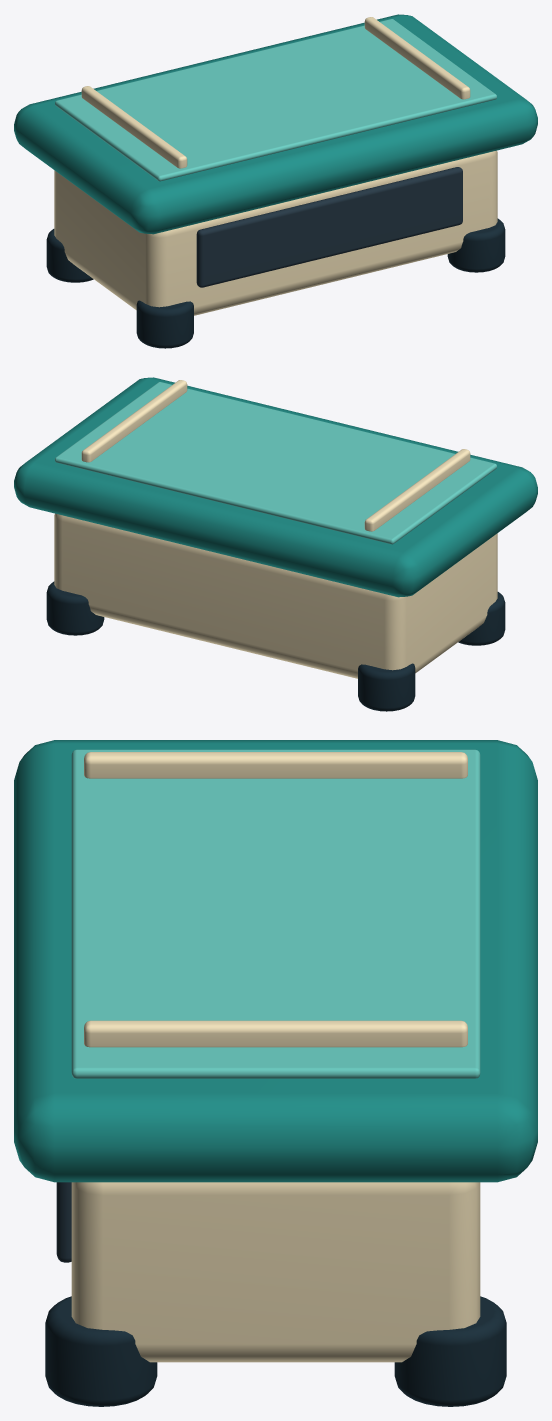
Rendered from delivery.glb.
3 renders of one model, top to bottom at view 1: azimuth 30°, elevation 25°; view 2: azimuth 150°, elevation 25°; view 3: azimuth 270°, elevation 25°, orthographic. The views are drawn at different scales.
Visible parts, largest first — view 1: Landing mat, Delivery counter, Delivery base, Front inset, Rubber foot.001, Rubber foot.003, Guide, Guide.001, Rubber foot; view 2: Delivery base, Landing mat, Delivery counter, Rubber foot, Rubber foot.002, Guide, Guide.001, Rubber foot.001; view 3: Landing mat, Delivery counter, Delivery base, Guide.001, Guide, Rubber foot.002, Rubber foot.003, Front inset.
Part boxes in pixels (x1,y1,x2,y2): Landing mat: [55, 19, 496, 181]; Delivery counter: [14, 14, 537, 234]; Delivery base: [54, 150, 497, 315]; Front inset: [196, 167, 462, 287]; Rubber foot.001: [136, 300, 193, 348]; Rubber foot.003: [447, 218, 505, 272]; Guide: [81, 86, 187, 168]; Guide.001: [364, 17, 470, 99]; Rubber foot: [46, 229, 93, 282]; Delivery base: [54, 513, 497, 678]; Landing mat: [55, 382, 496, 544]; Delivery counter: [14, 377, 537, 597]; Rubber foot: [358, 663, 415, 711]; Rubber foot.002: [46, 581, 104, 635]; Guide: [364, 449, 470, 531]; Guide.001: [81, 380, 187, 462]; Rubber foot.001: [458, 592, 505, 645]; Landing mat: [71, 749, 480, 1078]; Delivery counter: [14, 740, 537, 1182]; Delivery base: [71, 1182, 480, 1362]; Guide.001: [84, 1020, 467, 1047]; Guide: [84, 752, 467, 778]; Rubber foot.002: [394, 1296, 506, 1406]; Rubber foot.003: [45, 1296, 157, 1406]; Front inset: [56, 1182, 71, 1262].
Size of the model in its own units: 2.6 by 1.11 by 1.5.
